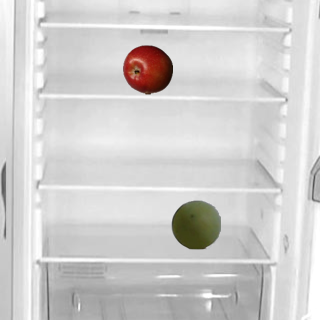Apple Braeburn: (122, 44, 172, 94)
Grape White 4: (170, 199, 220, 249)
